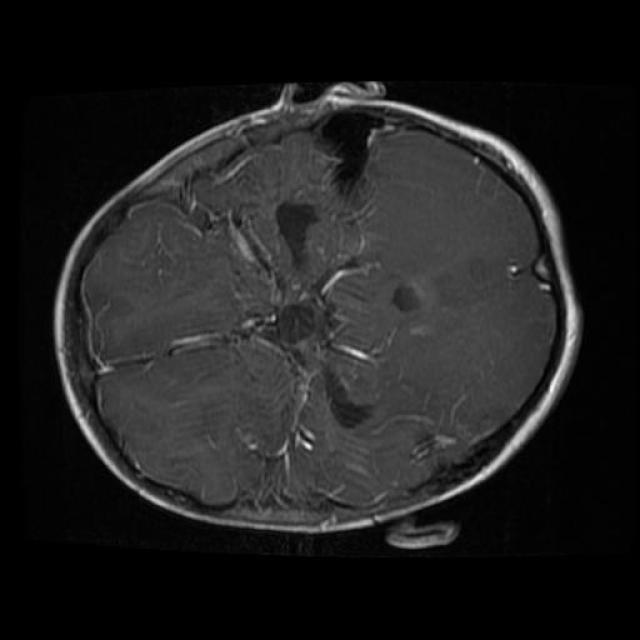Glioma: (313, 108, 385, 210)
